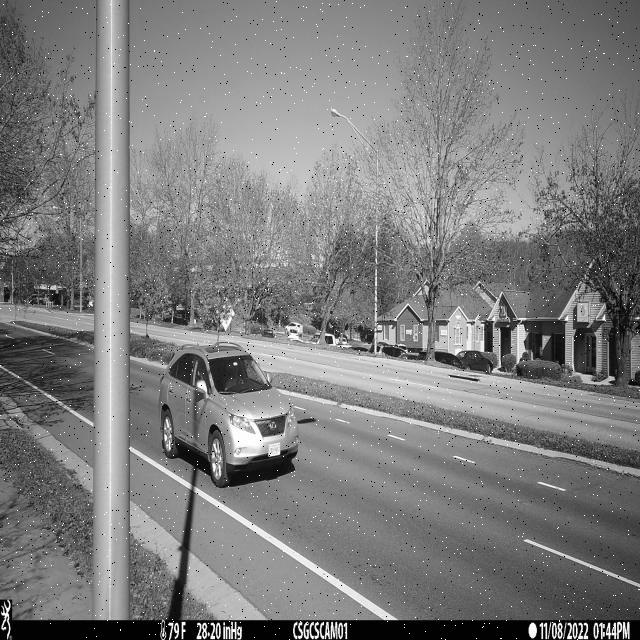SUV: (159, 341, 299, 488)
